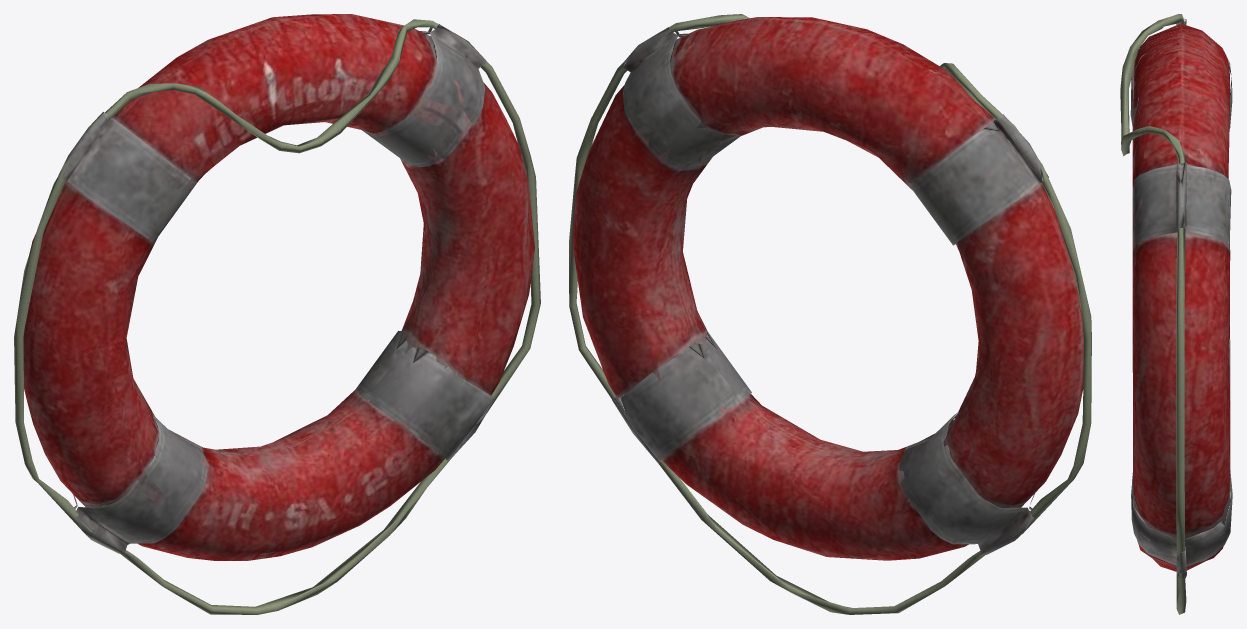
The model's file is marina-lifebuoy.glb.
3 renders of one model, left to right at view 1: azimuth 30°, elevation 25°; view 2: azimuth 150°, elevation 25°; view 3: azimuth 270°, elevation 25°, orthographic. The views are drawn at different scales.
Parts seen in each view (by area): view 1: Lifebuoy; view 2: Lifebuoy; view 3: Lifebuoy.
Boxes of the visible parts, x1,y1,x2,y2 form: Lifebuoy: (14, 14, 540, 614); Lifebuoy: (569, 14, 1091, 614); Lifebuoy: (1120, 14, 1232, 614).
Size of the model in its own units: 0.7829 by 0.8412 by 0.1551.
1 material, 1 textured.
